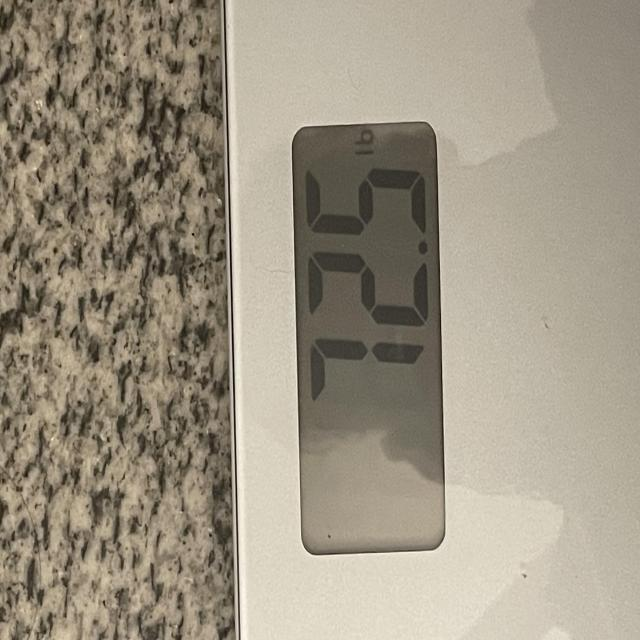ws: (290, 121, 447, 559)
